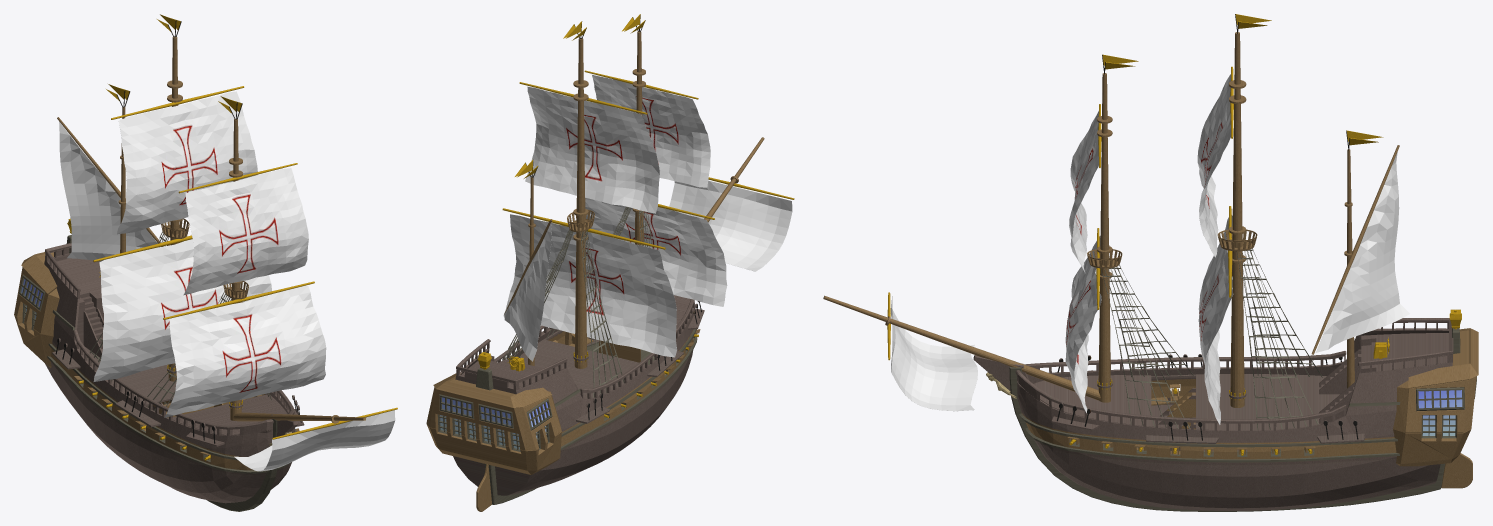
The model's file is pirate_bay.obj.
3 views of the same model, side by side, from view 1: azimuth 30°, elevation 25°; view 2: azimuth 150°, elevation 25°; view 3: azimuth 270°, elevation 25° (orthographic). The views are drawn at different scales.
Visible parts, largest first — view 1: Object3, Object7, Object12, Object6, Object9, Object2, Object11, Object15, Object16, Object, Object1, Object17 (+6 smaller); view 2: Object9, Object12, Object7, Object1, Object3, Object15, Object6, Object, Object16, Object2, Object17, Object11 (+8 smaller); view 3: Object7, Object2, Object, Object16, Object11, Object17, Object1, Object14, Object15, Object13, Object9, Object3 (+8 smaller).
Boxes of the visible parts, box(x1,y1,x2,y2) form: Object3: box(164, 286, 326, 417); Object7: box(45, 247, 299, 503); Object12: box(117, 91, 257, 234); Object6: box(183, 168, 308, 295); Object9: box(93, 239, 271, 381); Object2: box(52, 258, 287, 434); Object11: box(59, 121, 157, 261); Object15: box(234, 410, 395, 471); Object16: box(18, 235, 296, 511); Object: box(120, 36, 365, 421); Object1: box(14, 252, 59, 367); Object17: box(44, 80, 339, 459); Object9: box(503, 214, 676, 357); Object12: box(525, 86, 659, 213); Object7: box(453, 302, 700, 495); Object1: box(426, 373, 561, 474); Object3: box(585, 197, 727, 306); Object15: box(669, 180, 792, 271); Object6: box(592, 74, 710, 187); Object: box(528, 31, 764, 368); Object16: box(437, 329, 697, 504); Object2: box(461, 295, 690, 398); Object17: box(462, 69, 738, 511); Object11: box(504, 223, 551, 361); Object7: box(1017, 322, 1452, 510); Object2: box(1033, 333, 1448, 453); Object: box(823, 32, 1354, 407); Object16: box(1009, 328, 1476, 511); Object11: box(1316, 152, 1409, 352); Object17: box(885, 80, 1472, 488); Object1: box(1393, 328, 1478, 466); Object14: box(1100, 248, 1322, 430); Object15: box(891, 296, 977, 411); Object13: box(1015, 318, 1453, 430); Object9: box(1198, 215, 1233, 424); Object3: box(1065, 235, 1101, 413).
Bounding box in the file's own units: 2.05 × 4.98 × 5.95.
